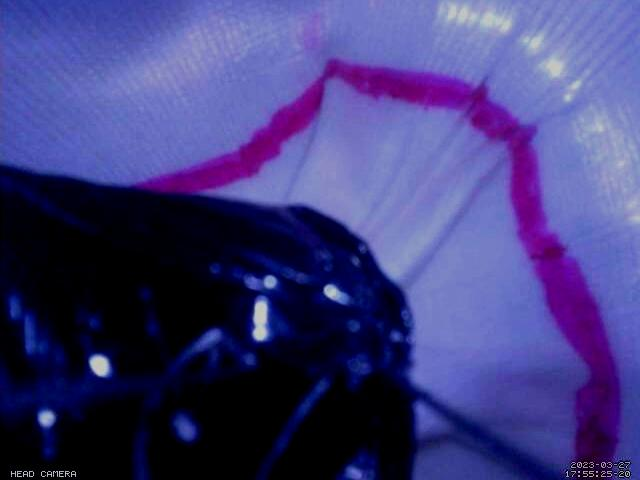red-circle: (133, 56, 622, 480)
